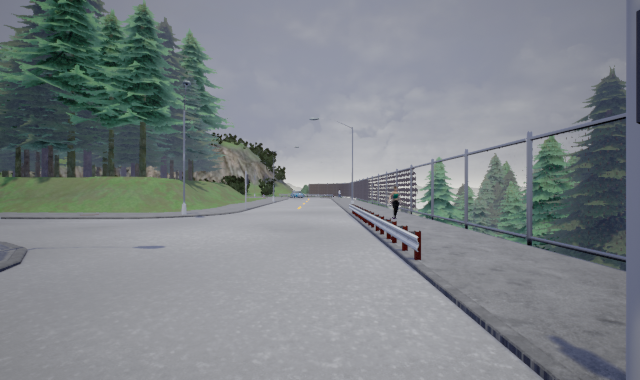pedestrian: (387, 184, 403, 220)
